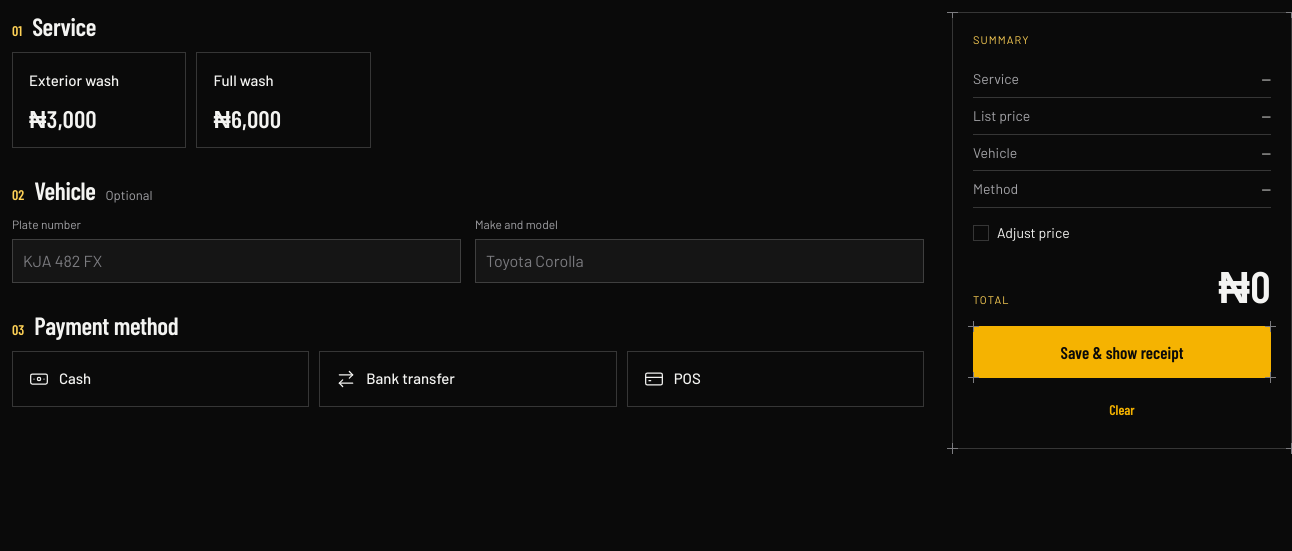
Test: NewTransactionForm › lists what is missing with the prototype's copy
This screenshot has width=1292, height=551.
Expected: the button "Full wash ₦6,000" is shown, [196,52,371,148]
Click the button "Save & show receipt". click: (1122, 352)
box: [973,326,1271,378]
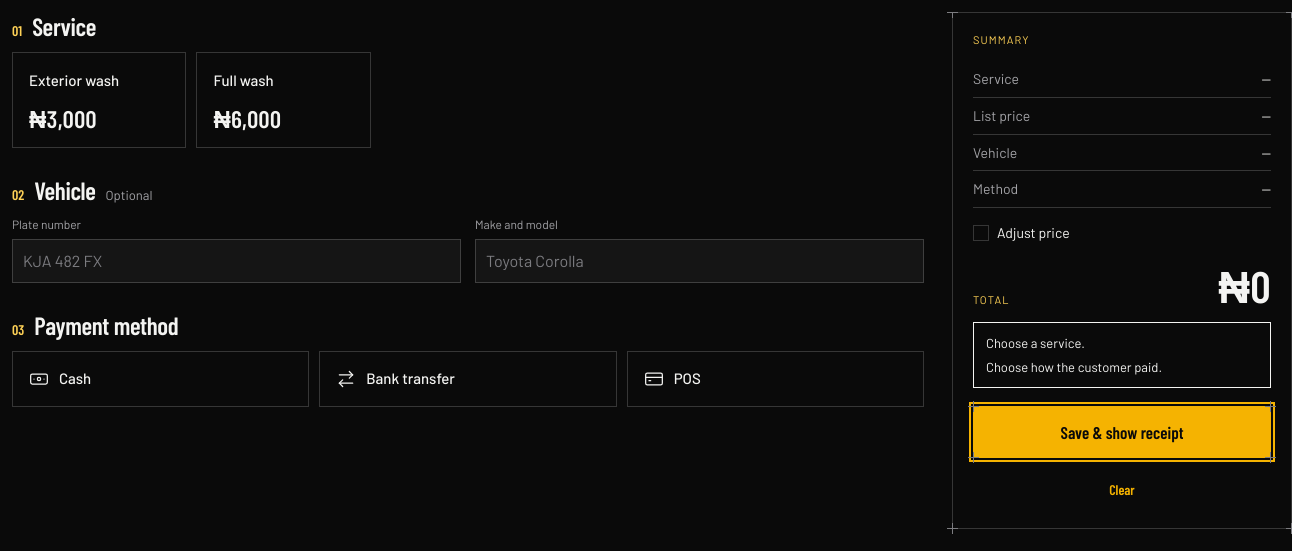
Now the message shows "Choose a service.", box [986,335,1085,351]
Now the message shows "Choose how the customer paid.", box [986,359,1162,375]
